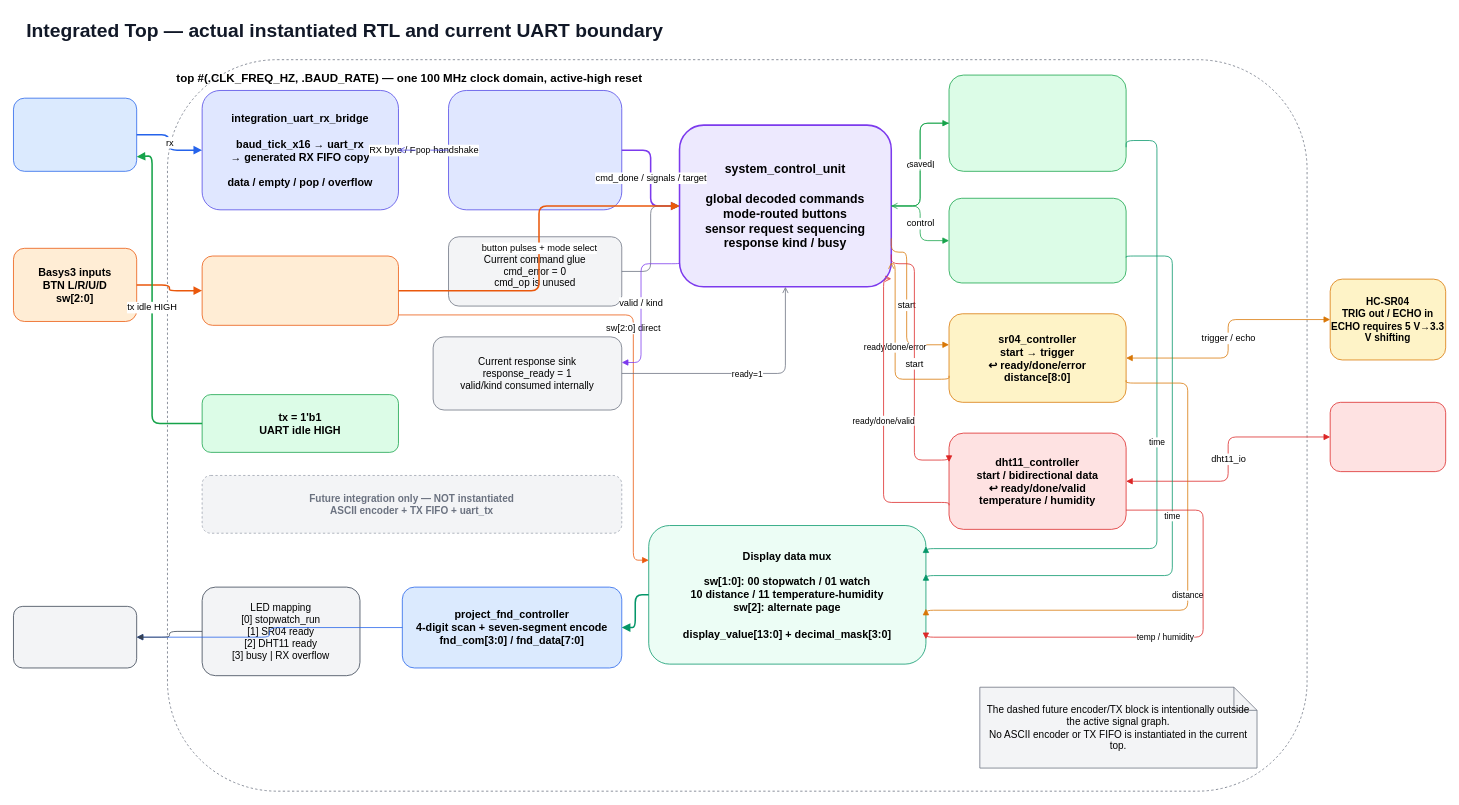
This 1459x805 diagram has some shape labels left out. Here are the shapes that lost their labels. From the top down, the centre of each, then its label:
(75,134): Host UART 9,600 bps, 8-N-1 RX commands
(1037,122): stopwatch_datapath run/clear/mode/save/load ↩ saved flag hour/min/sec/msec
(535,150): ascii_decoder teammate RTL, unchanged r / s actions /get dist + LF query
(1037,240): clock (digital watch) up/down/left/right hour/min/sec/msec
(299,290): 4 × btn_debouncer switches pass directly
(1387,437): DHT11 bidirectional data 3.3 V pull-up
(75,637): Basys3 outputs FND + LED[3:0]
